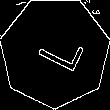L_NW: (26, 27, 84, 77)
